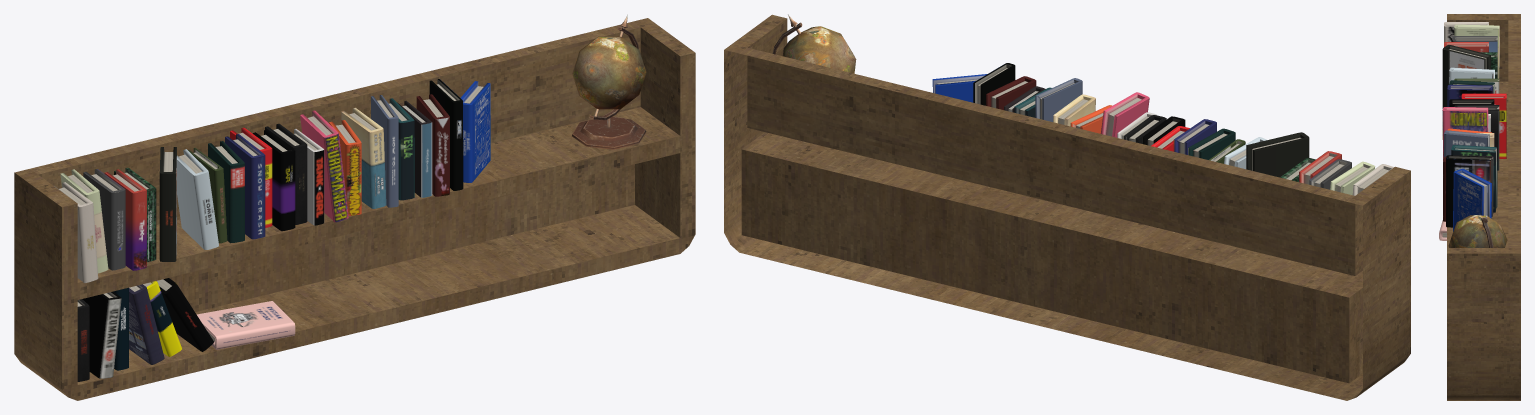
File: FullBookShelf.fbx
3 renders of one model, left to right at view 1: azimuth 30°, elevation 25°; view 2: azimuth 150°, elevation 25°; view 3: azimuth 270°, elevation 25°, orthographic. The views are drawn at different scales.
Parts seen in each view (by area): view 1: Book.001, Book.002, Globe; view 2: Book.001, Book.002, Globe; view 3: Book.001, Book.002, Globe.
Boxes of the visible parts, box(x1,y1,x2,y2) form: Book.001: box(14, 18, 695, 400); Book.002: box(54, 79, 490, 381); Globe: box(572, 14, 646, 149); Book.001: box(724, 14, 1410, 400); Book.002: box(932, 63, 1393, 195); Globe: box(772, 14, 856, 73); Book.001: box(1447, 14, 1520, 400); Book.002: box(1439, 22, 1506, 240); Globe: box(1448, 215, 1507, 247).
Size of the model in its own units: 107 by 36.64 by 15.39.
Materials: 3 (3 with a texture image).
